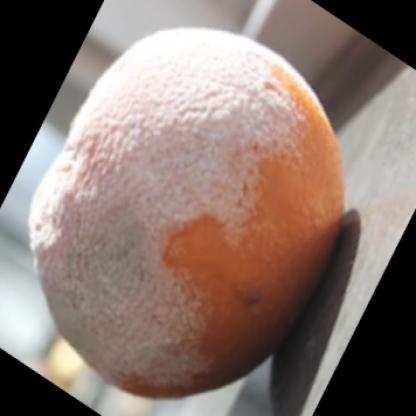rotten: (29, 29, 347, 401)
